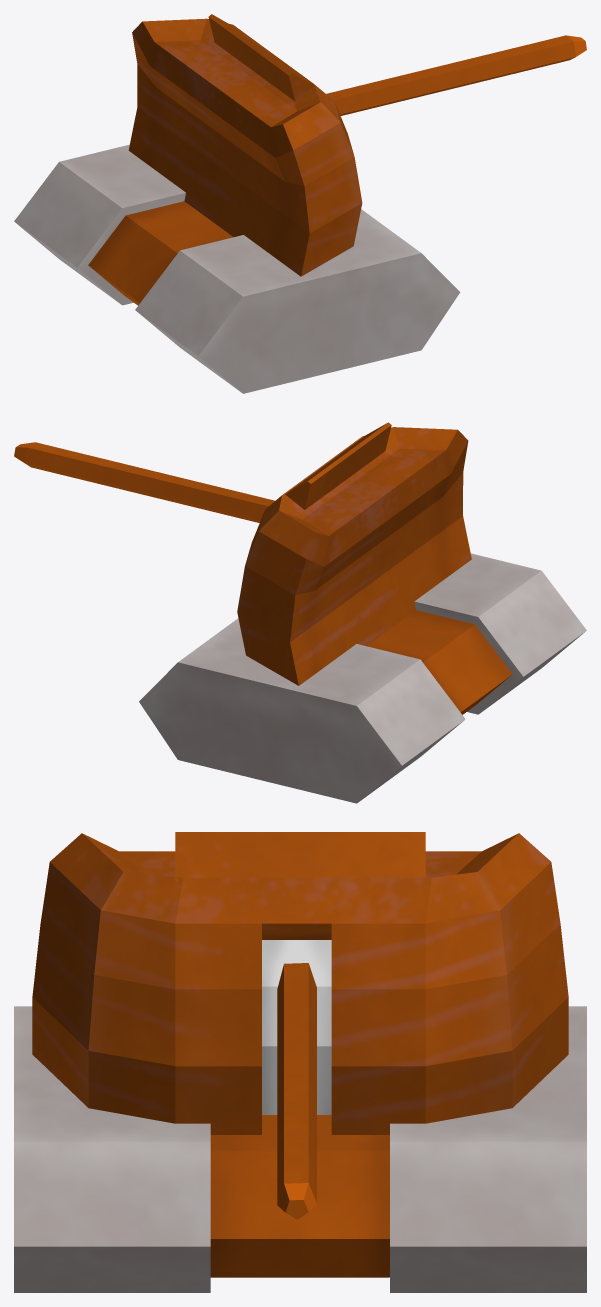
File: Torrelongoalcance2.fbx
3 views of the same model, one above another, from view 1: azimuth 30°, elevation 25°; view 2: azimuth 150°, elevation 25°; view 3: azimuth 270°, elevation 25° (orthographic). The views are drawn at different scales.
Parts seen in each view (by area): view 1: Cube; view 2: Cube; view 3: Cube.
Part boxes in pixels (x1=…): Cube: x1=14, y1=14, x2=586, y2=393; Cube: x1=14, y1=422, x2=586, y2=803; Cube: x1=14, y1=832, x2=586, y2=1292.
Size of the model in its own units: 588 by 305 by 394.
